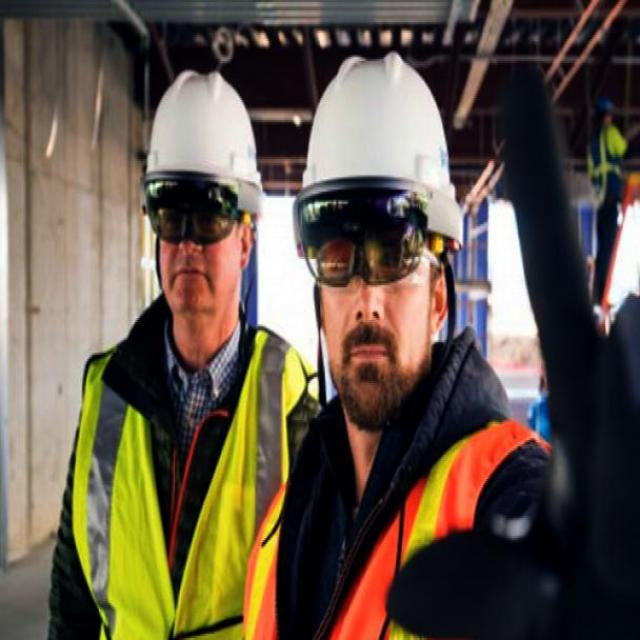helmet: (293, 36, 477, 430), (138, 57, 260, 316)
vest: (81, 322, 266, 624), (261, 424, 447, 638)
